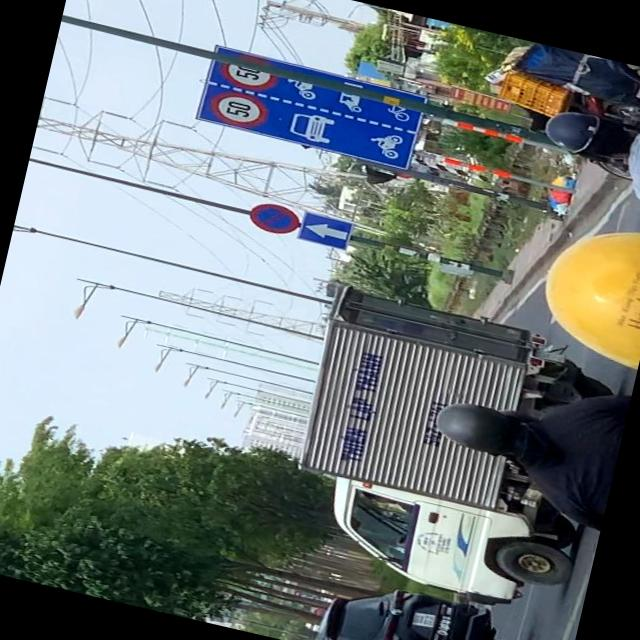I-407a: (298, 212, 352, 248)
P-131a: (244, 198, 302, 238)
